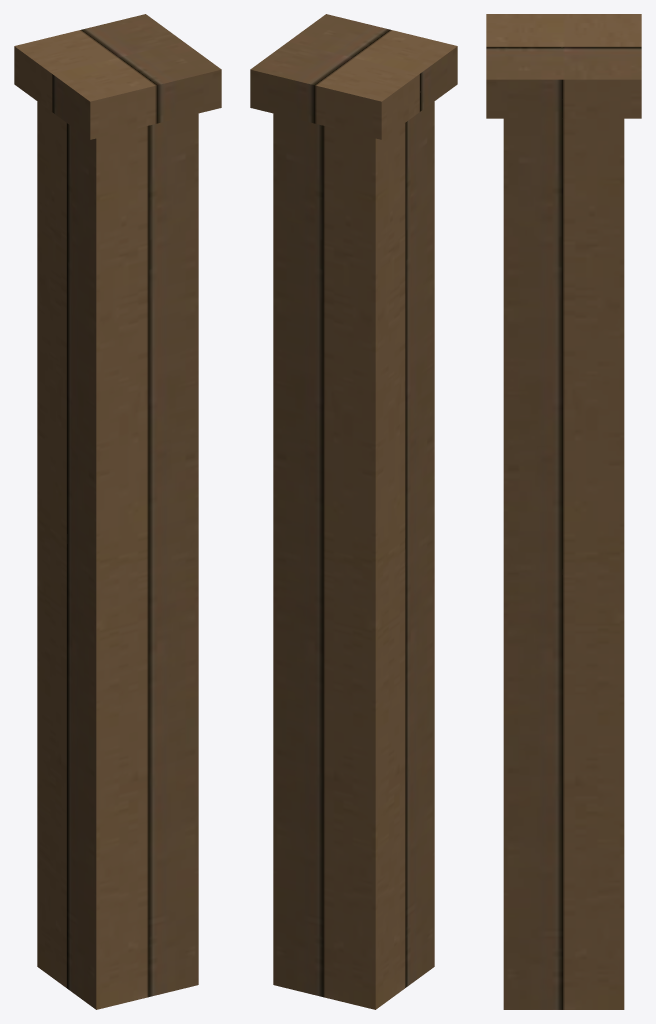
The model's file is prp_fence_end_a_LOD1.glb.
3 renders of one model, left to right at view 1: azimuth 30°, elevation 25°; view 2: azimuth 150°, elevation 25°; view 3: azimuth 270°, elevation 25°, orthographic. The views are drawn at different scales.
Parts seen in each view (by area): view 1: prp_fence_end_a_wood; view 2: prp_fence_end_a_wood; view 3: prp_fence_end_a_wood.
Part boxes in pixels (bbox=[...]): prp_fence_end_a_wood: bbox=[14, 14, 221, 1009]; prp_fence_end_a_wood: bbox=[250, 14, 457, 1009]; prp_fence_end_a_wood: bbox=[486, 14, 641, 1009].
Bounding box in the file's own units: 0.18 × 1.2 × 0.18.
1 material, 1 textured.
